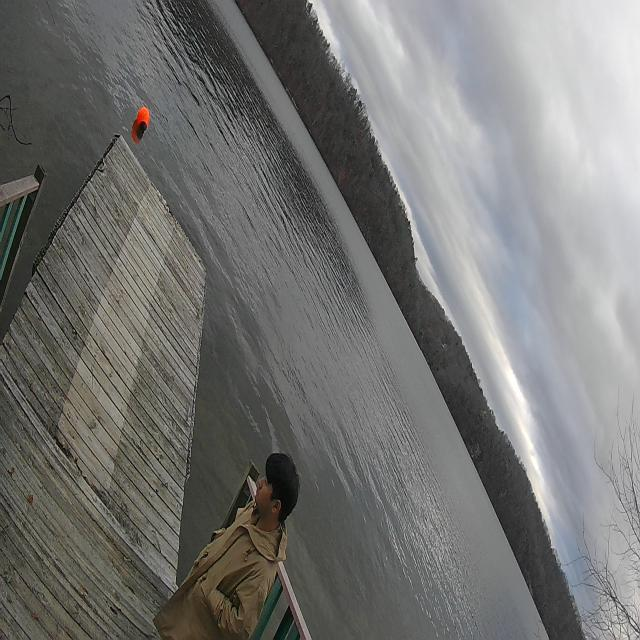Buoy: (137, 105, 151, 135)
